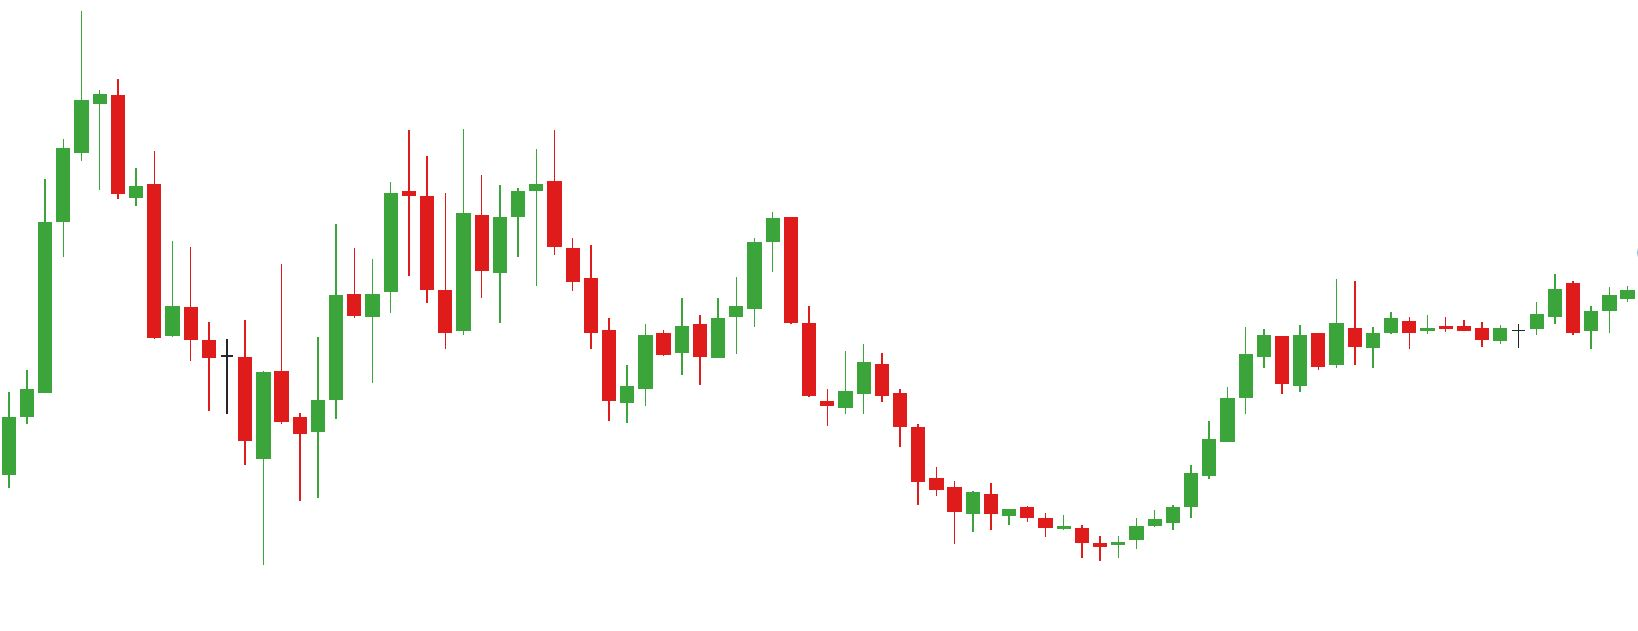buy: (365, 238, 654, 426)
